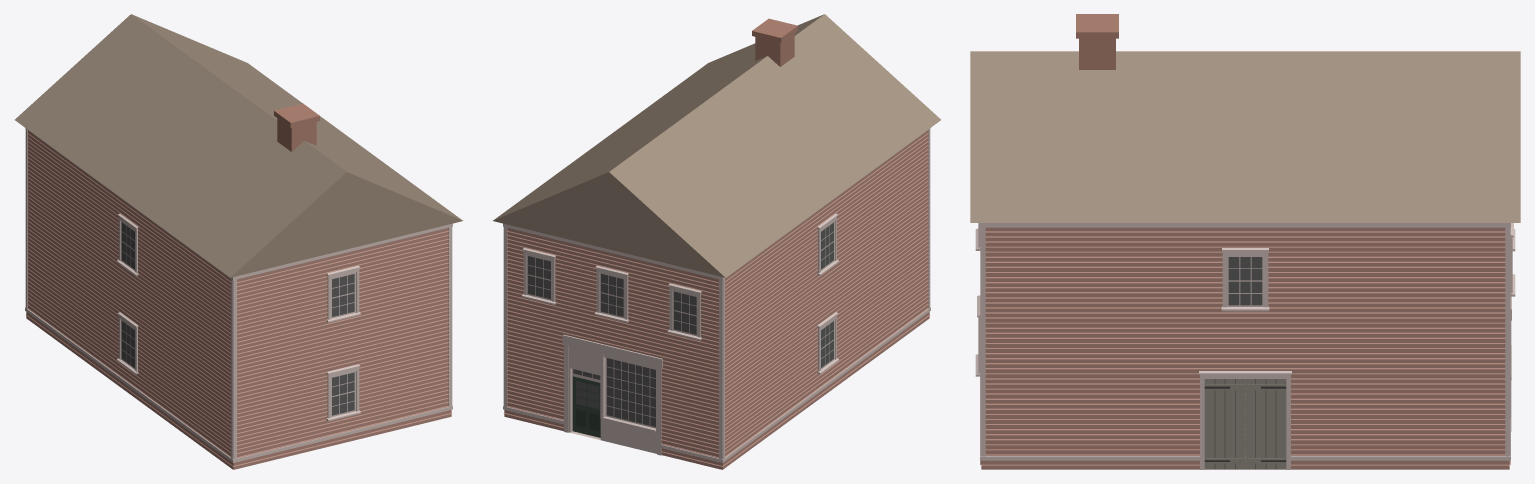
The model's file is recon_1835_gifford_c3_005__inferred_1835.glb.
3 views of the same model, side by side, from view 1: azimuth 30°, elevation 25°; view 2: azimuth 150°, elevation 25°; view 3: azimuth 270°, elevation 25° (orthographic). The views are drawn at different scales.
Visible parts, largest first — view 1: recon_1835_gifford_c3_005__inferred_1835; view 2: recon_1835_gifford_c3_005__inferred_1835; view 3: recon_1835_gifford_c3_005__inferred_1835.
Part boxes in pixels (box(x1,y1,x2,y2)): recon_1835_gifford_c3_005__inferred_1835: box(15, 14, 462, 469); recon_1835_gifford_c3_005__inferred_1835: box(493, 14, 940, 469); recon_1835_gifford_c3_005__inferred_1835: box(970, 14, 1520, 469).
Size of the model in its own units: 7.8 by 9.48 by 12.5.
